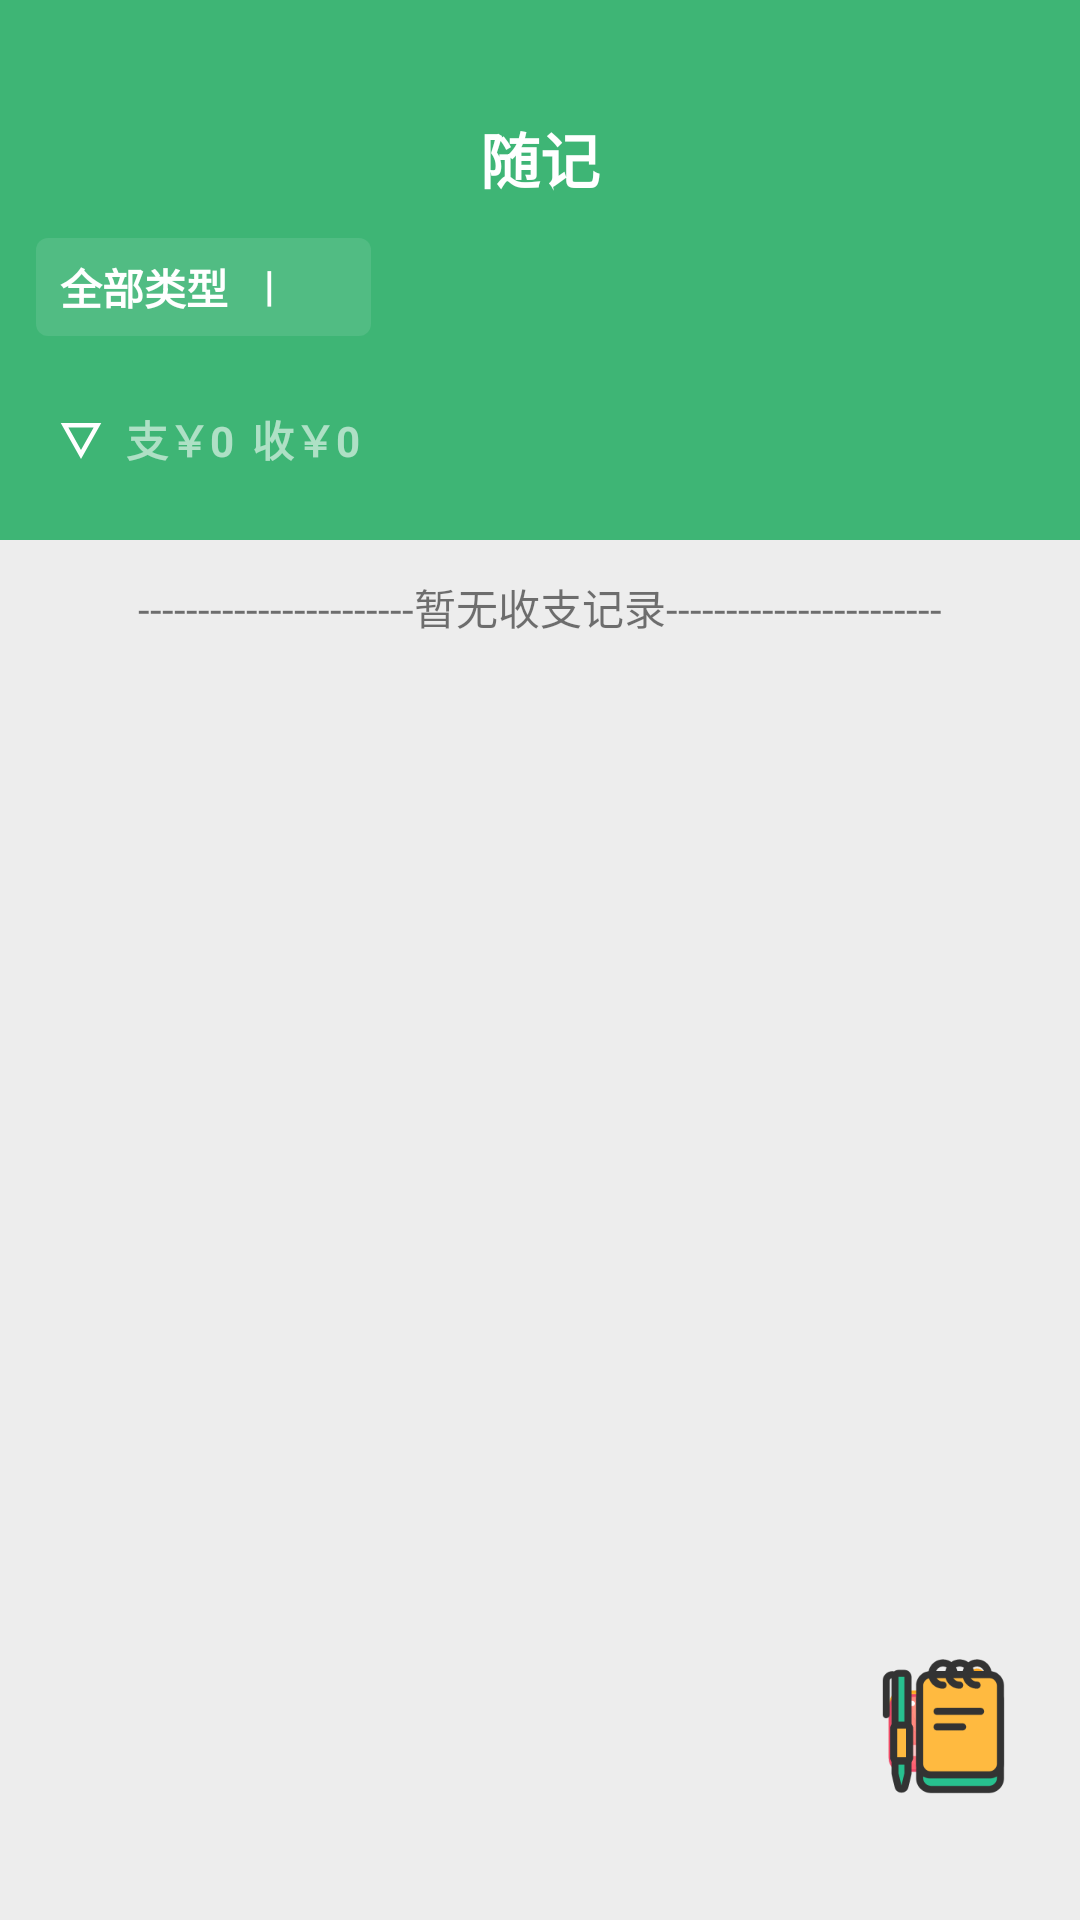

Locate icon controls on the screen. Image size 1080w x 1920h, boxes as (x1, y1, x2, y2).
details: (61, 423, 101, 459)
